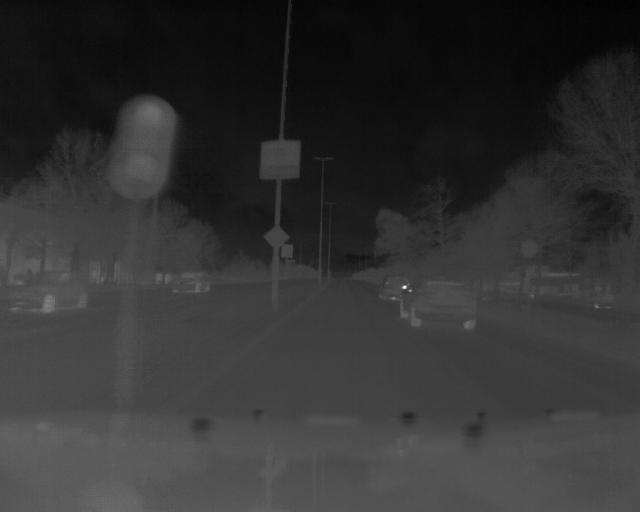car: (400, 277, 479, 330), (7, 270, 91, 316), (378, 272, 416, 304), (172, 271, 212, 295)
